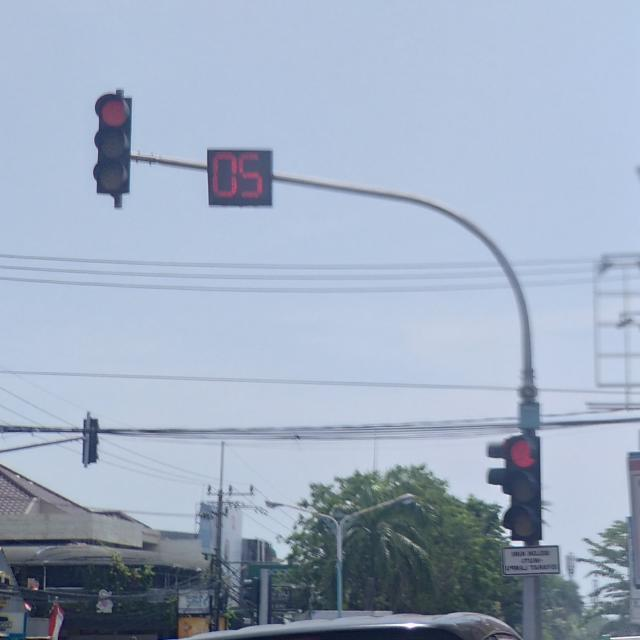red_light: (486, 433, 539, 541), (92, 92, 129, 204)
